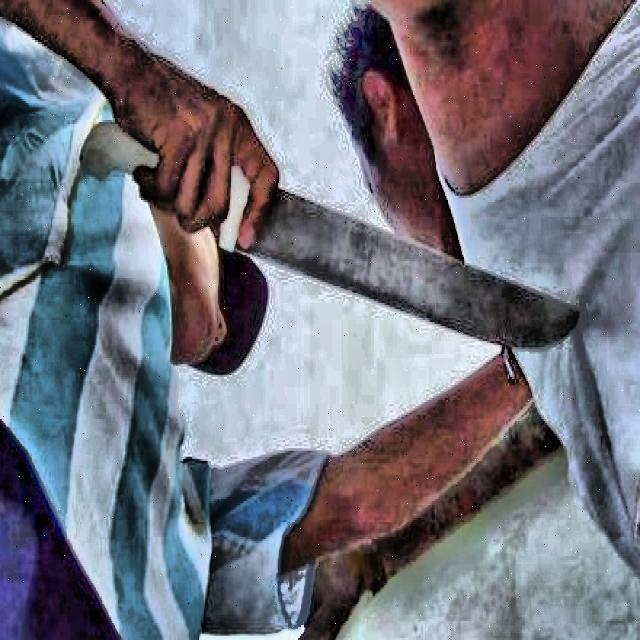knife: (82, 124, 582, 354)
